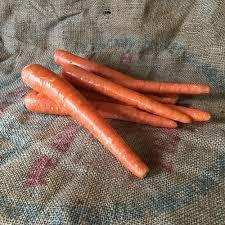Organic: (13, 32, 225, 191)
